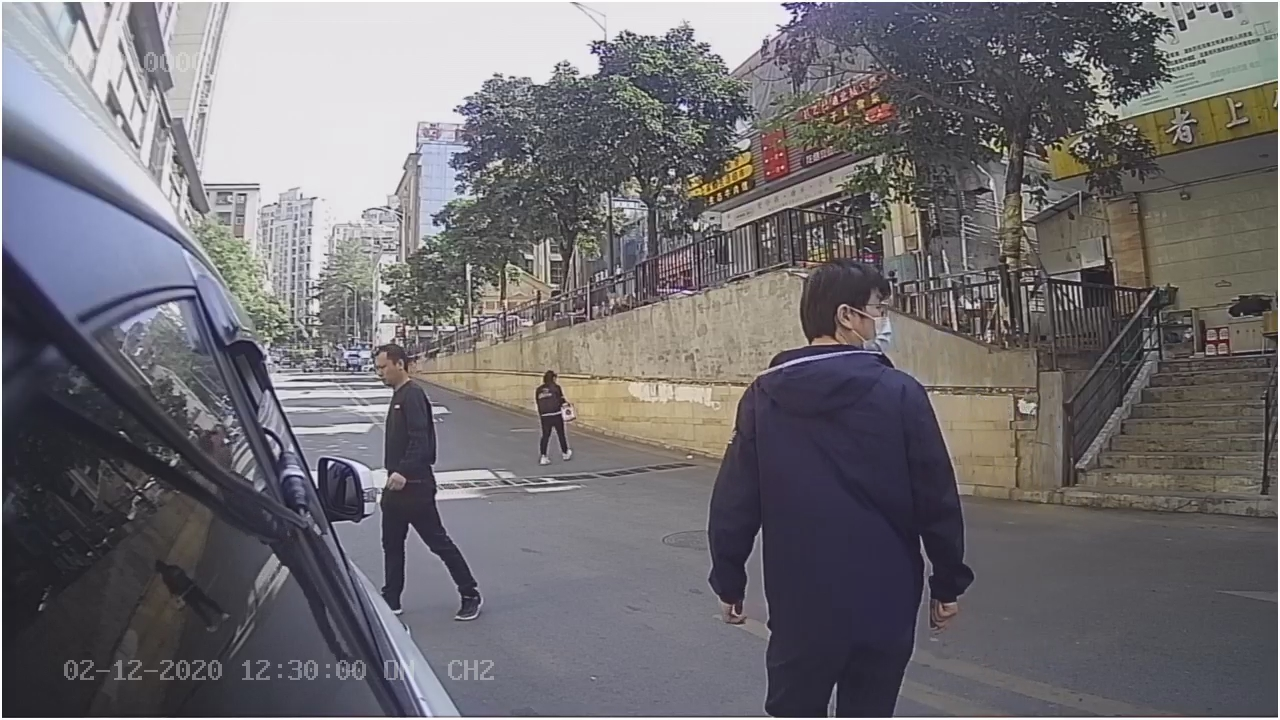person: (701, 254, 971, 635), (372, 334, 442, 468)
